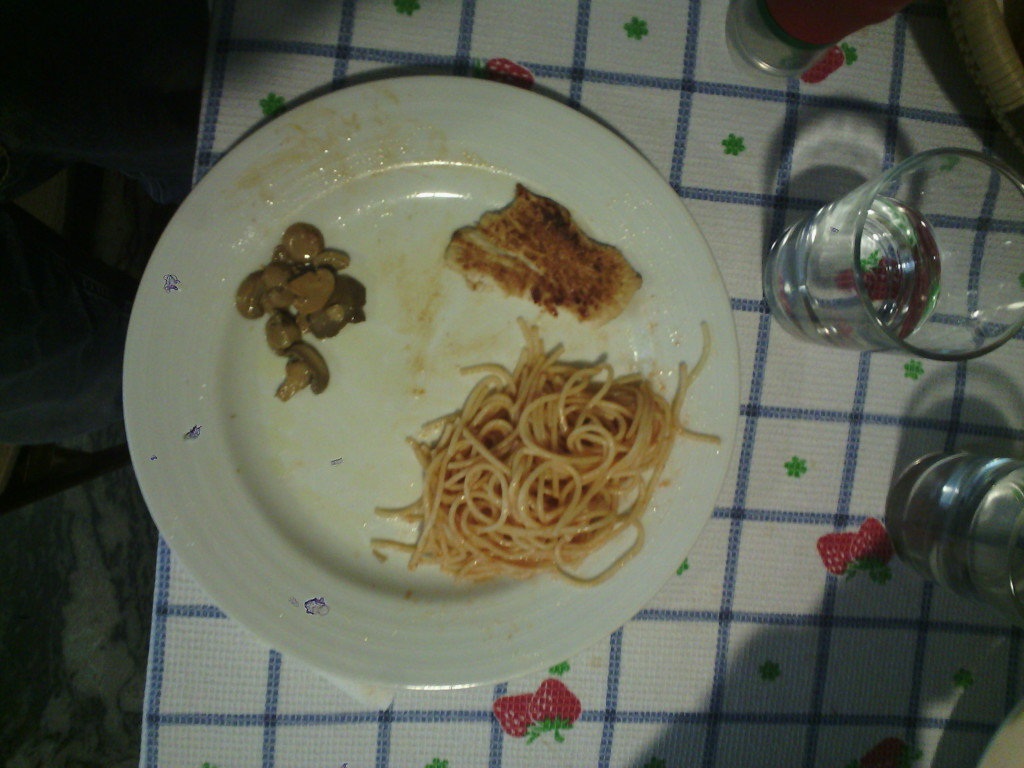41-60: (133, 79, 737, 689)
